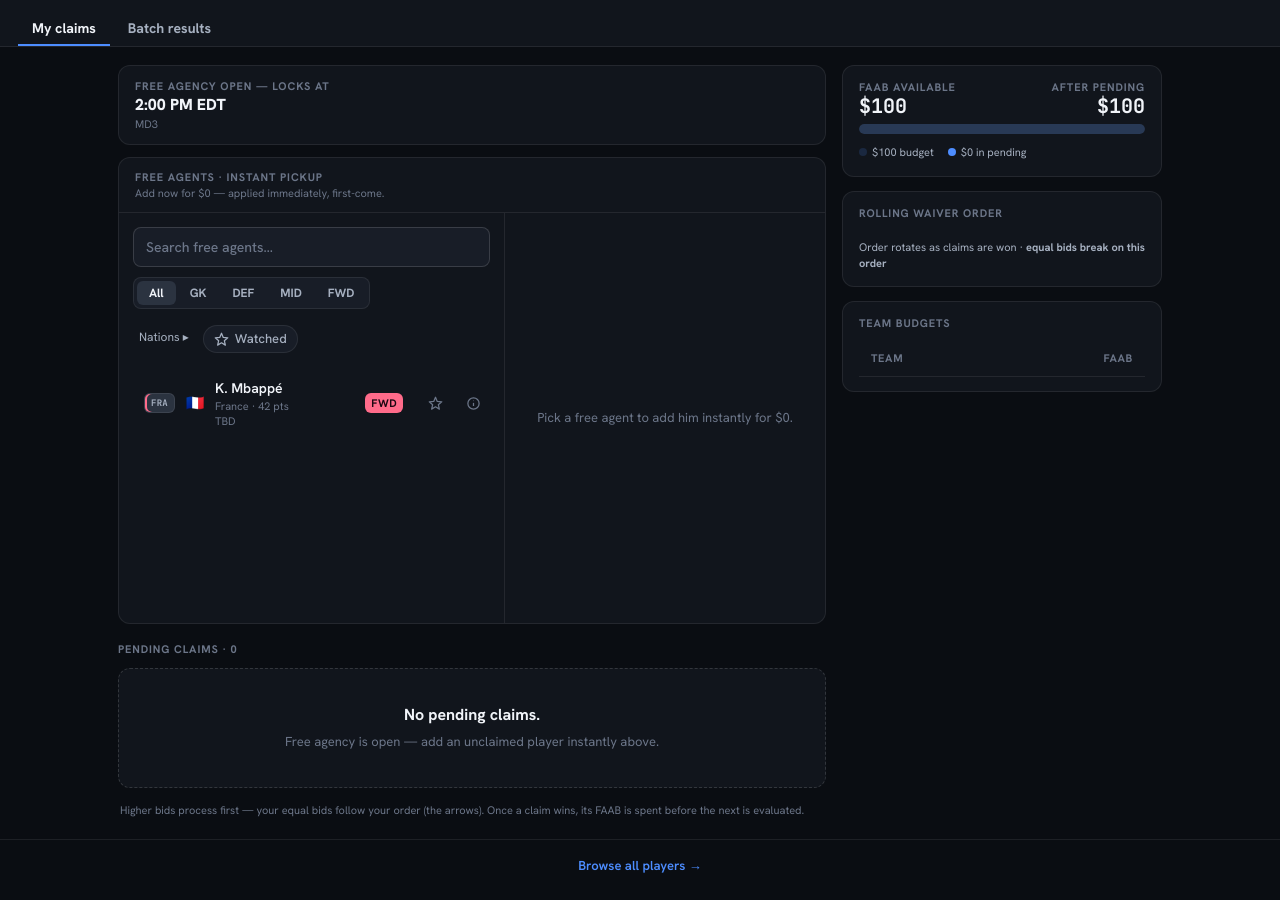
Test: waivers — period concept confined to Batch results (T11 Fix B) › the FA player info control opens the period-less player card (live/global restored)
Click the button named "view player card".
click(473, 403)  # box [456, 369, 490, 437]
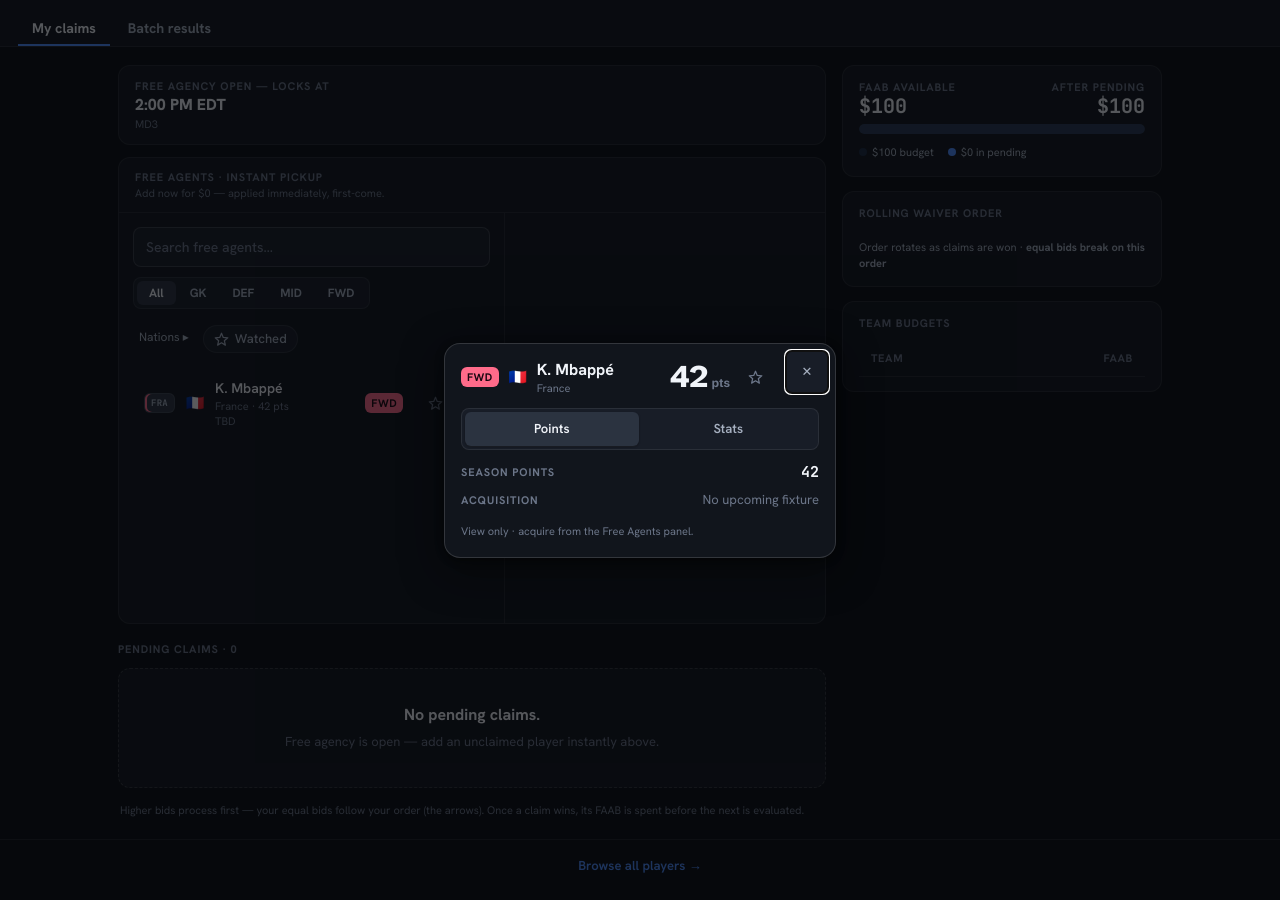
Check: the dialog named "player card" is shown
